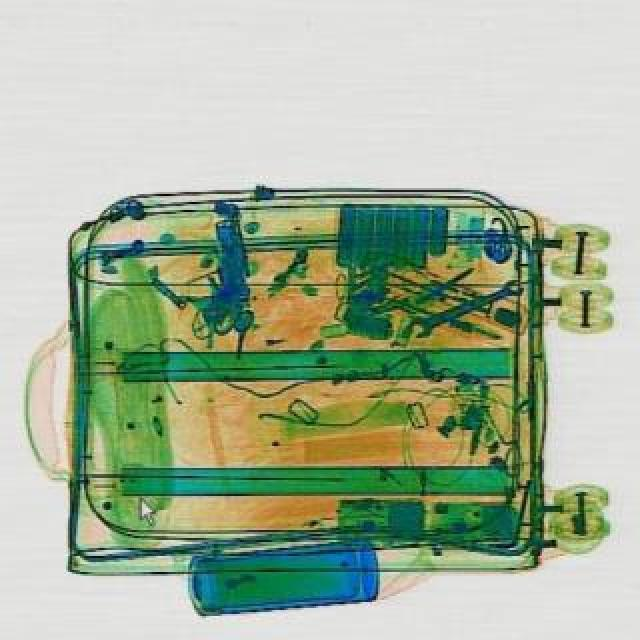scissors: (402, 272, 528, 340)
